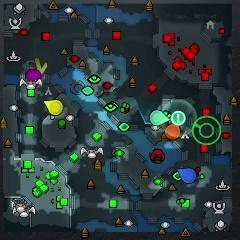Other: (171, 111, 186, 126)
p1: (178, 168, 196, 184)
p2: (150, 110, 169, 126)
p3: (26, 69, 42, 81)
p4: (44, 100, 64, 116)
p5: (165, 123, 182, 140)
x2: (30, 57, 47, 75)
